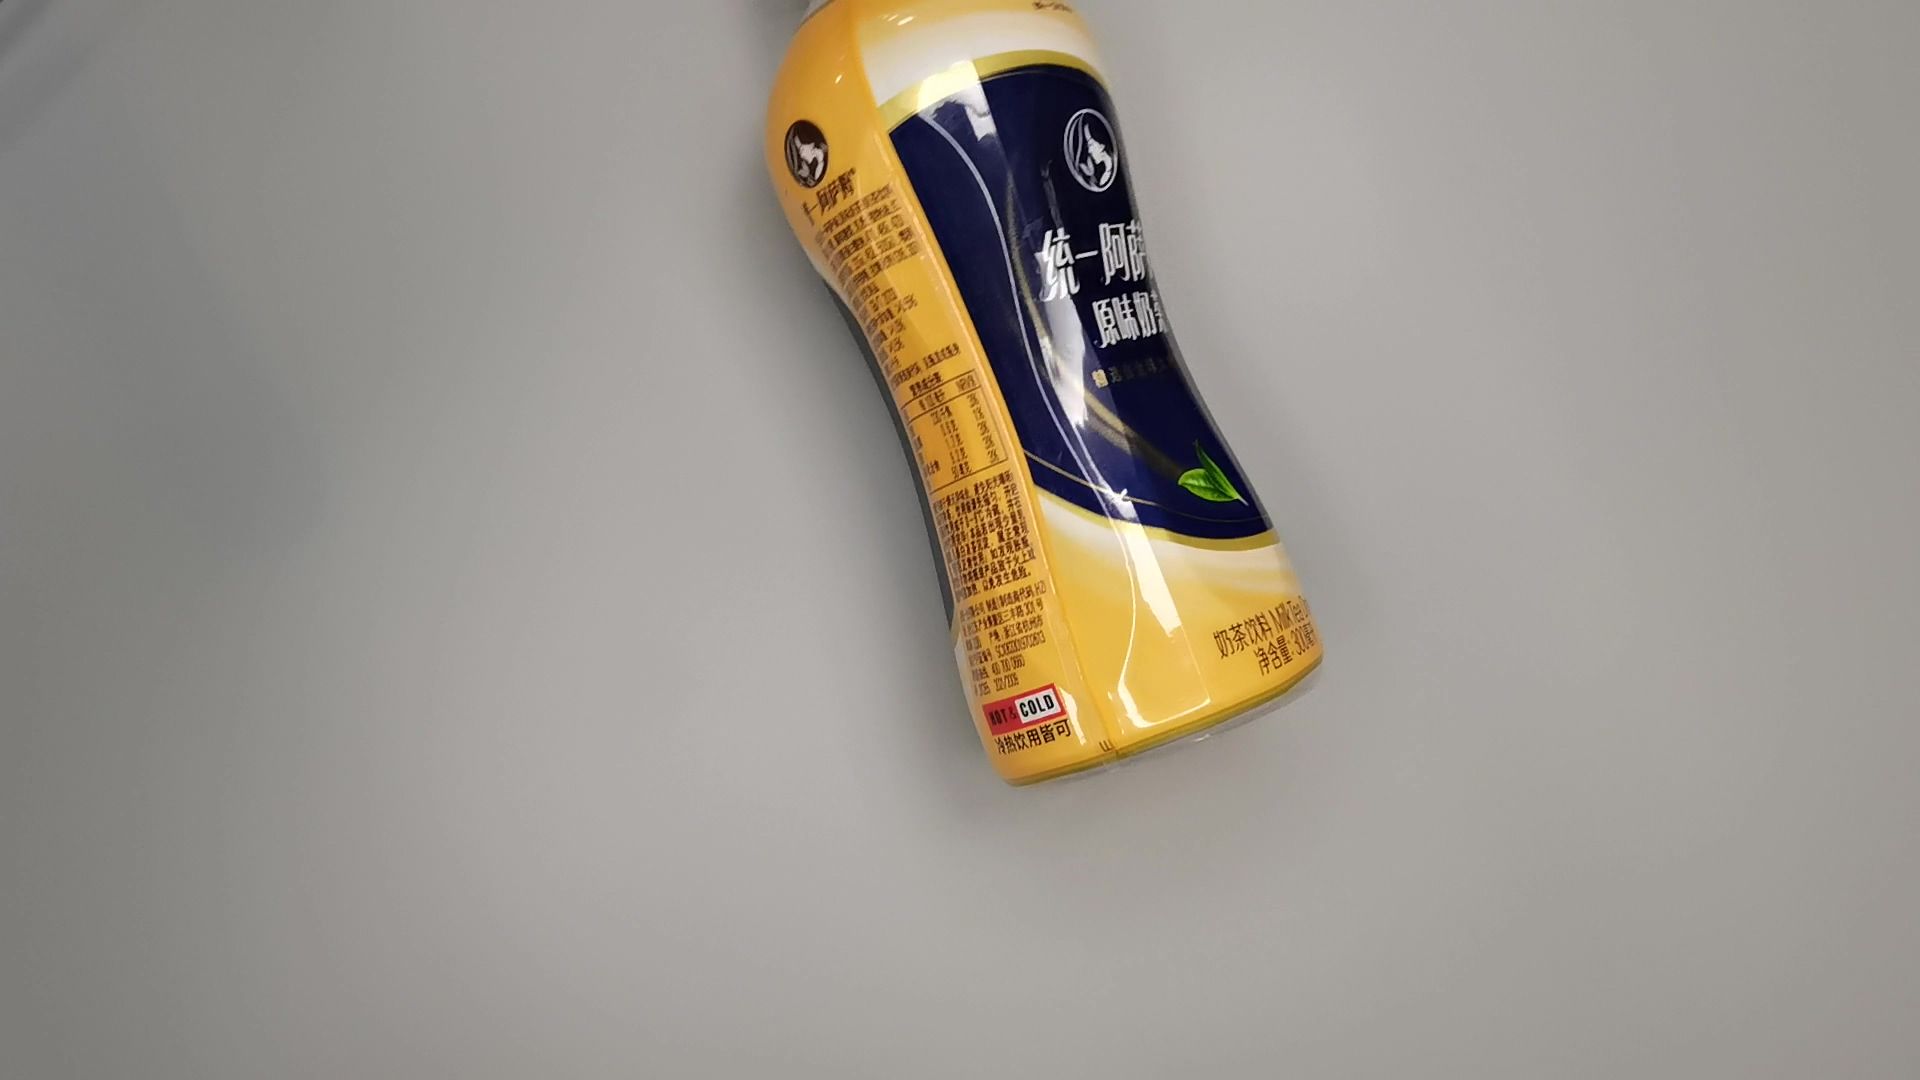bottle: (752, 1, 1325, 794)
